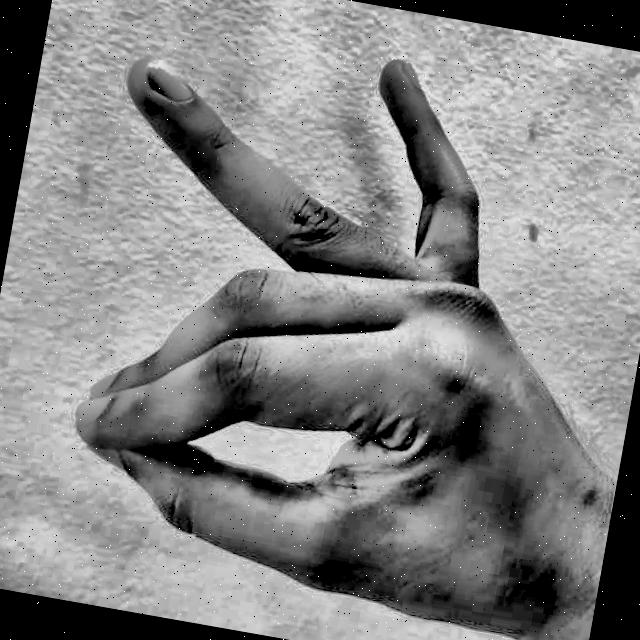Na: (15, 0, 640, 640)
